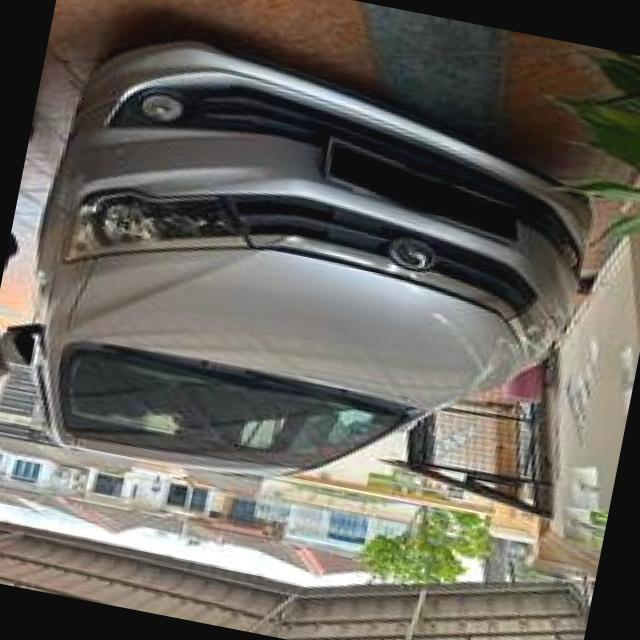PeroduaBezza: (0, 15, 613, 543)
